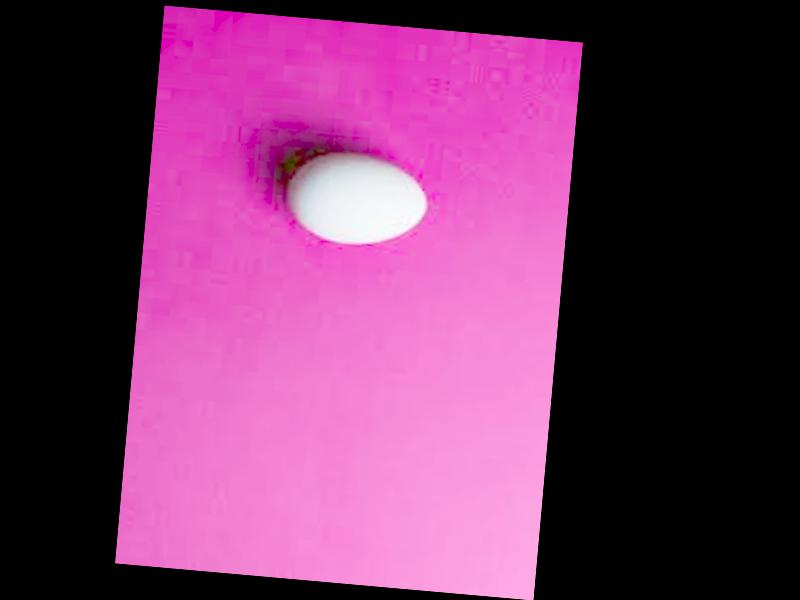Eggs: (284, 149, 430, 250)
